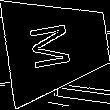M_E: (32, 19, 82, 73)
